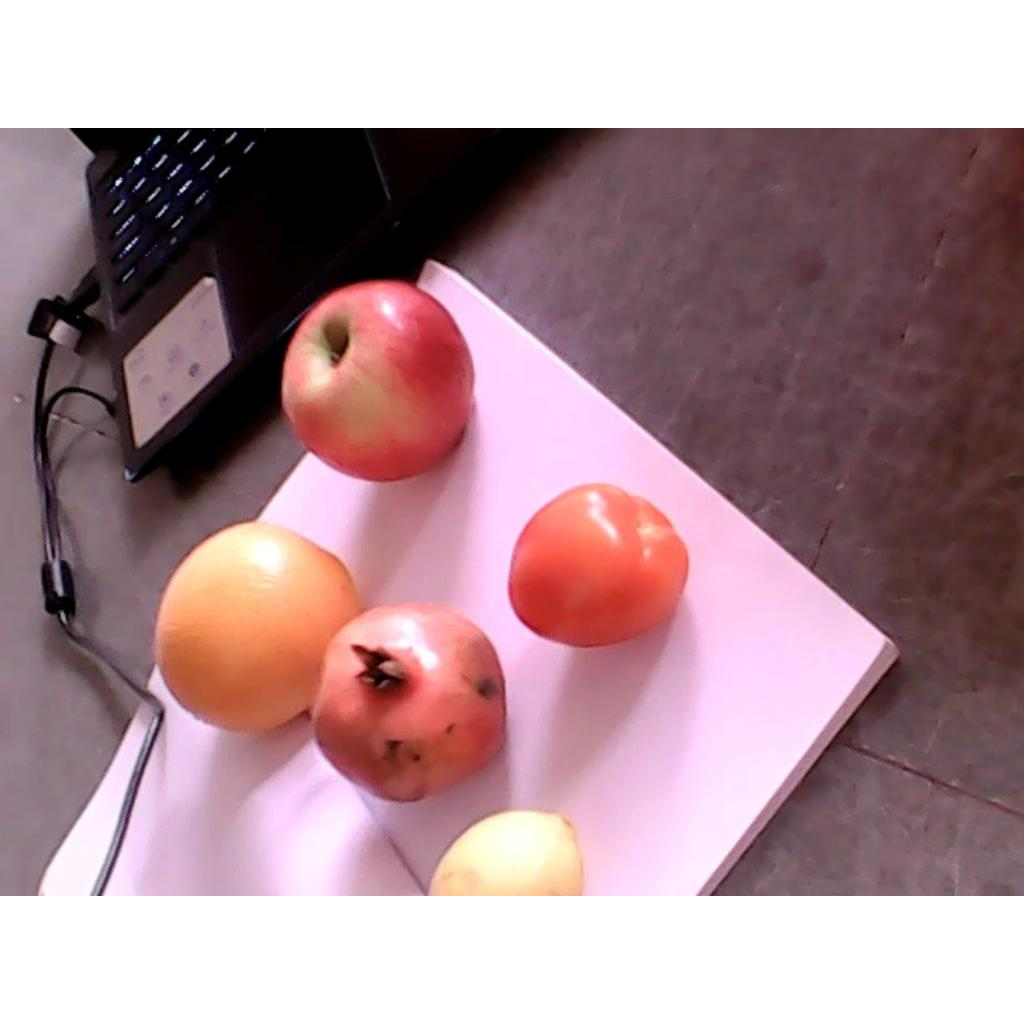apple: (280, 280, 473, 480)
lemon: (430, 811, 585, 894)
orange: (156, 518, 371, 732)
pomegranate: (310, 601, 503, 802)
tomato: (508, 484, 690, 646)
